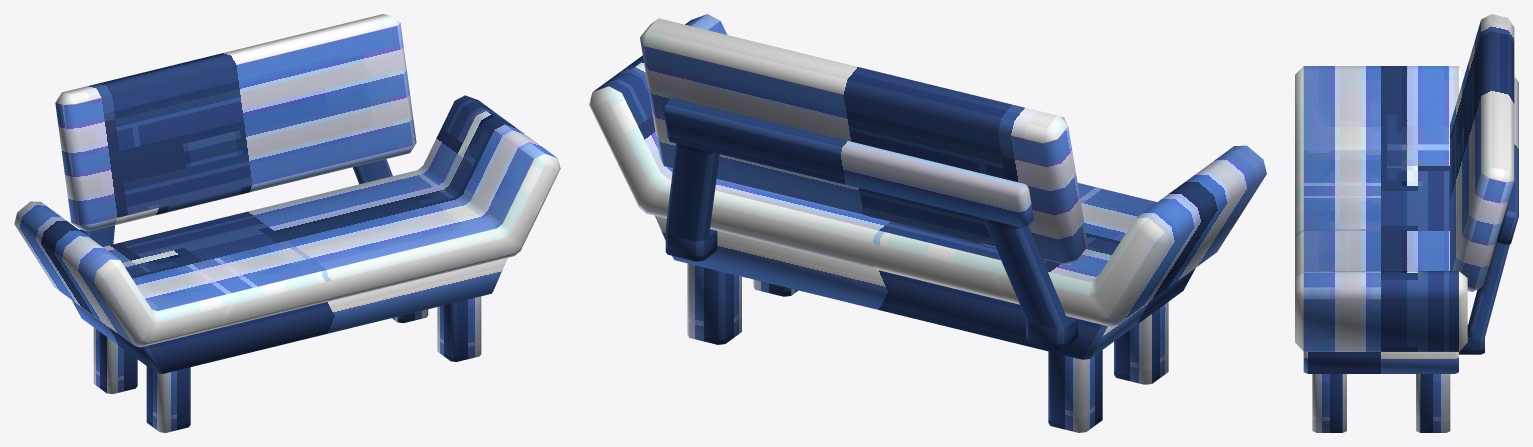
The model's file is rmk_str_chairL.dae.
The picture shows the model from 3 angles, left to right: view 1: azimuth 30°, elevation 25°; view 2: azimuth 150°, elevation 25°; view 3: azimuth 270°, elevation 25°; orthographic projection. The views are drawn at different scales.
Parts seen in each view (by area): view 1: rmk_str_chairL; view 2: rmk_str_chairL; view 3: rmk_str_chairL.
Part boxes in pixels (x1=…): rmk_str_chairL: x1=14, y1=14, x2=560, y2=432; rmk_str_chairL: x1=589, y1=14, x2=1266, y2=432; rmk_str_chairL: x1=1295, y1=14, x2=1518, y2=432.
Bounding box in the file's own units: 61 × 33.99 × 25.92.
1 material, 1 textured.
